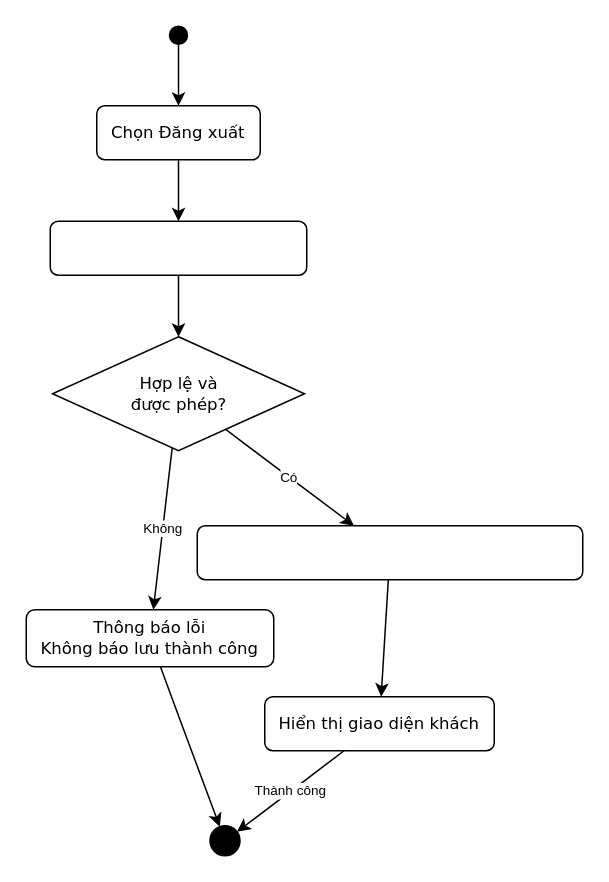
Some shapes in this 609 by 882 pixel diagram are drawn without their labels. Here are the shapes that lost their labels. From the top down, the centre of each, then its label:
At [178,247]: "Kiểm tra phiên trên thiết bị".
At [389,552]: "Xóa phiên localStorage hoặc AsyncStorage".
